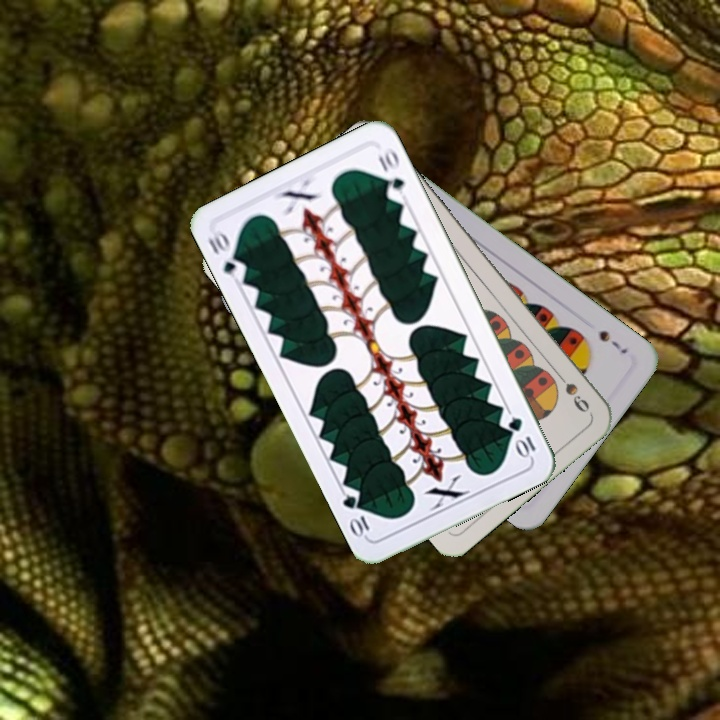G10: (204, 228, 249, 284), (504, 413, 539, 461)
S7: (595, 326, 630, 357)
S9: (550, 366, 593, 416)
